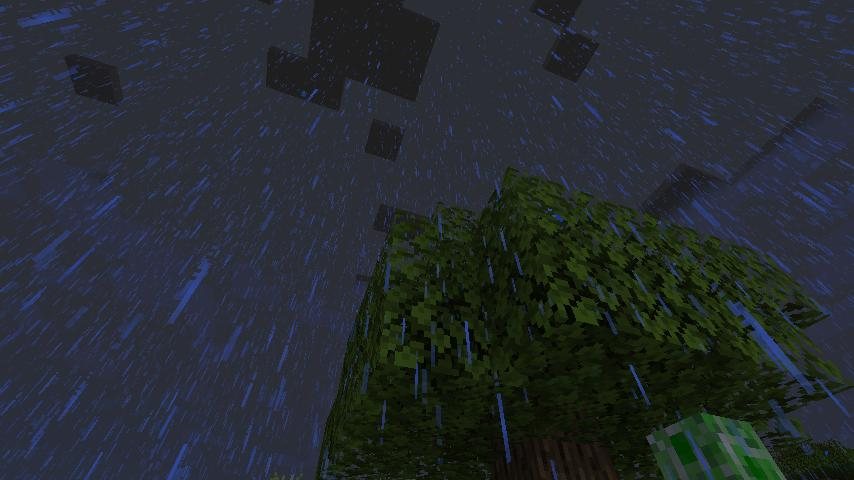creeper: (643, 405, 791, 480)
